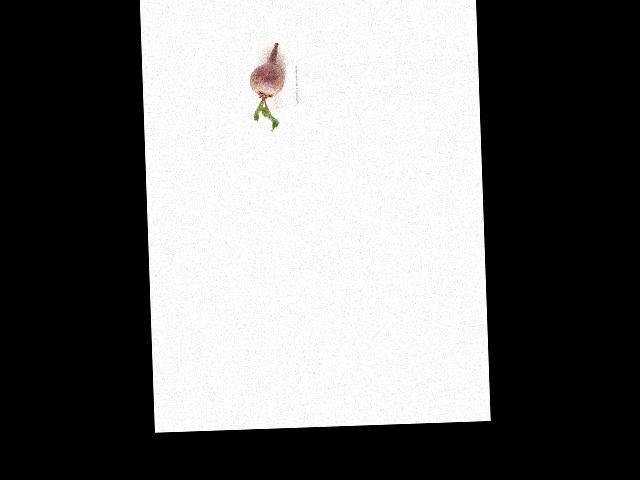beet: (248, 43, 286, 132)
